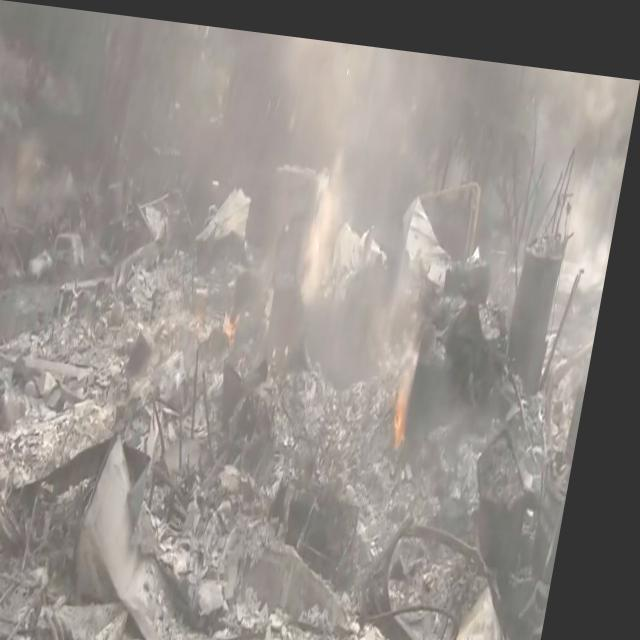Fire: (400, 388, 424, 430), (231, 296, 251, 330)
